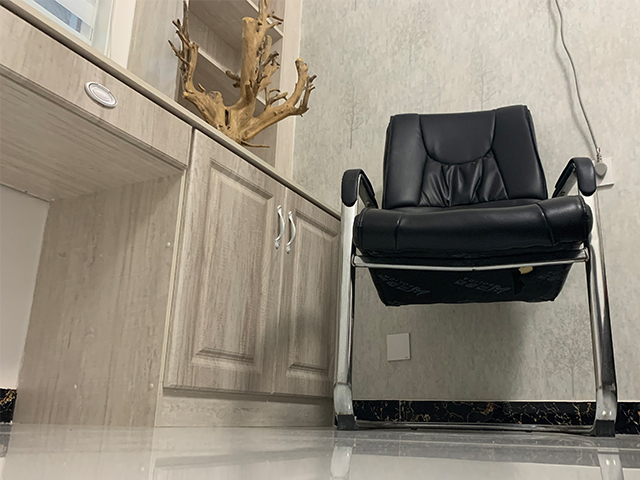cabinet: (5, 127, 340, 431)
stool: (332, 104, 620, 438)
wire: (551, 2, 610, 181)
